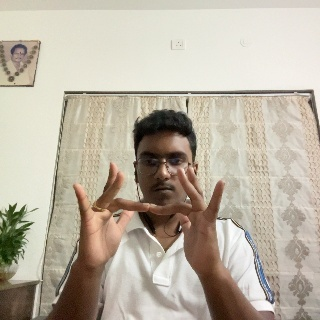Internet: (75, 165, 225, 272)
